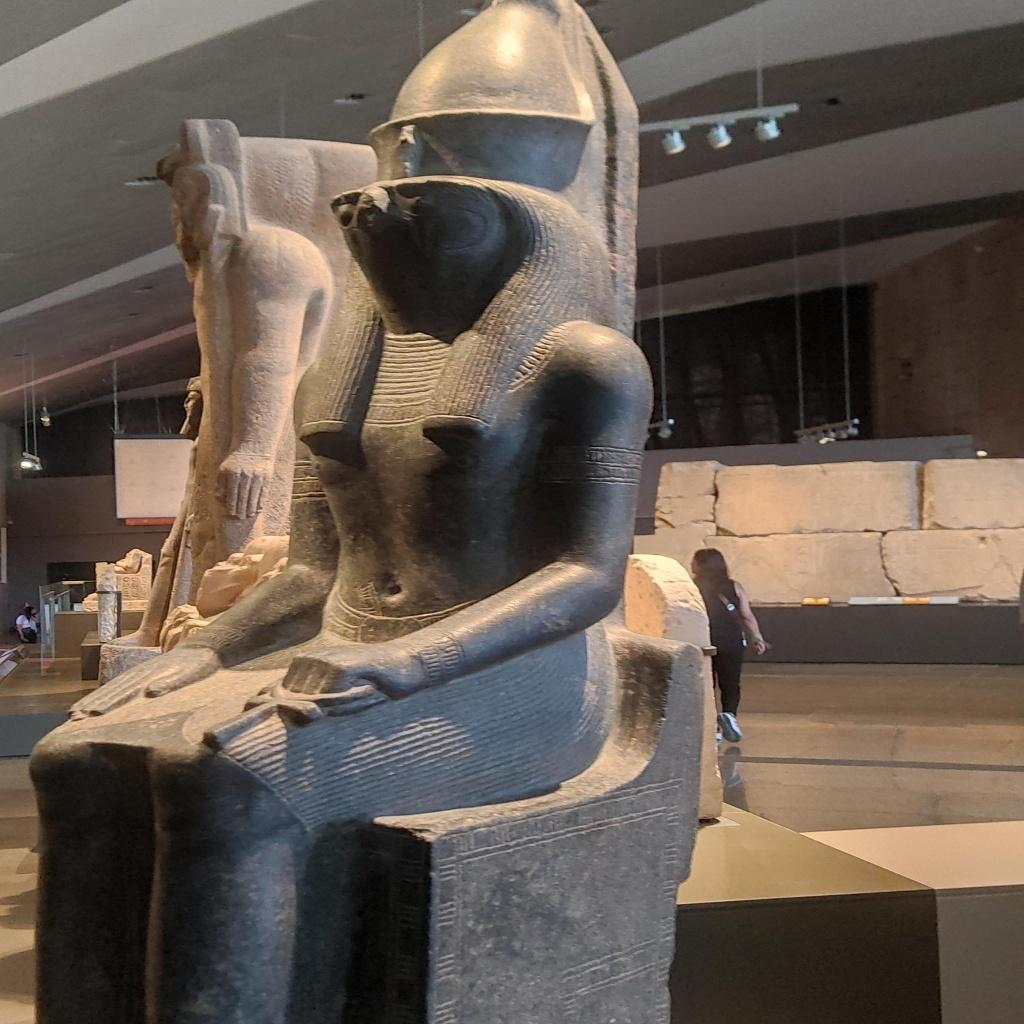Statue of God Ra-Horakhty: (64, 8, 716, 1020)
